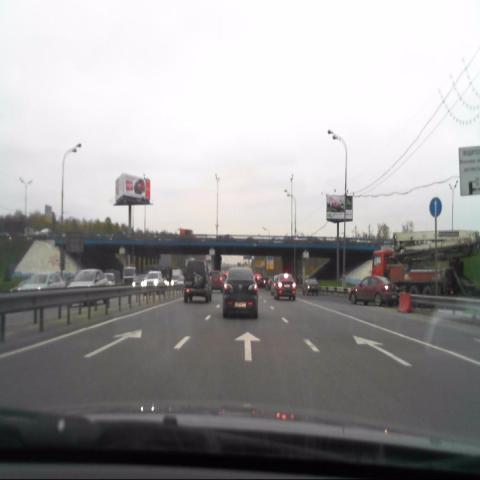4_1_1: (430, 196, 442, 217)
